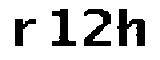1: (44, 7, 78, 52)
2: (80, 6, 112, 52)
h: (114, 7, 148, 51)
r: (11, 16, 39, 47)
